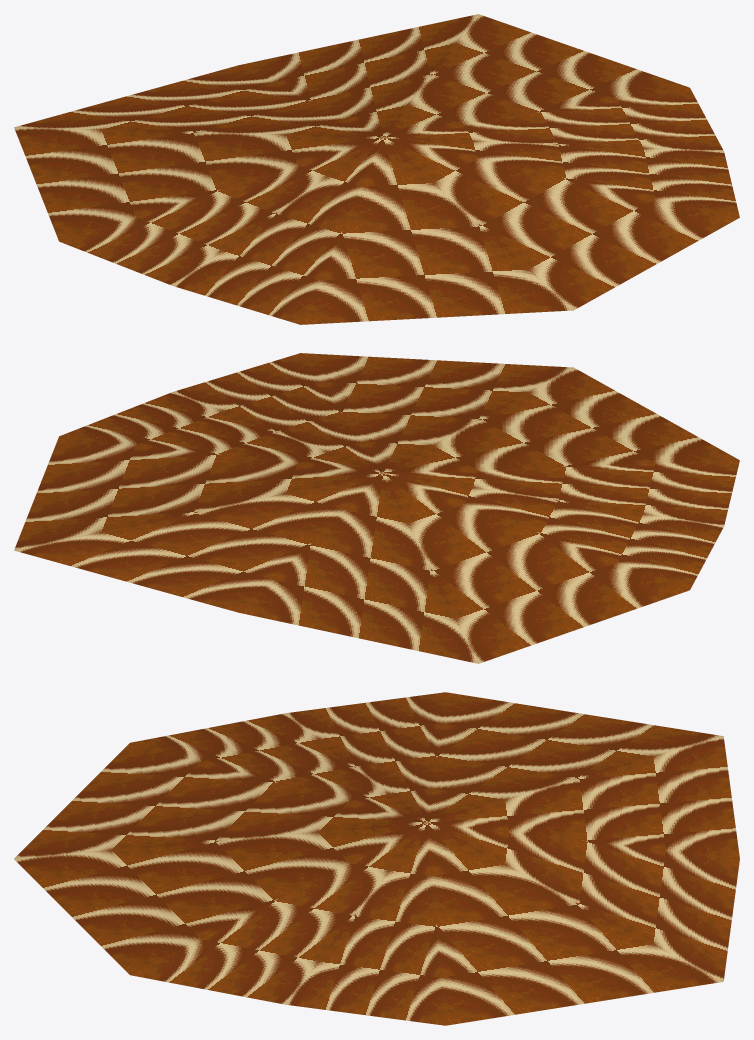
Rendered from 1129item600.gltf.
The picture shows the model from 3 angles, top to bottom: view 1: azimuth 30°, elevation 25°; view 2: azimuth 150°, elevation 25°; view 3: azimuth 270°, elevation 25°; orthographic projection. The views are drawn at different scales.
Visible parts, largest first — view 1: 1129item600; view 2: 1129item600; view 3: 1129item600.
Boxes of the visible parts, x1,y1,x2,y2 form: 1129item600: (14, 14, 739, 324); 1129item600: (14, 353, 739, 663); 1129item600: (14, 692, 739, 1025).
Size of the model in its own units: 0.6147 by 0.0312 by 0.5654.
Materials: 1 (1 with a texture image).
